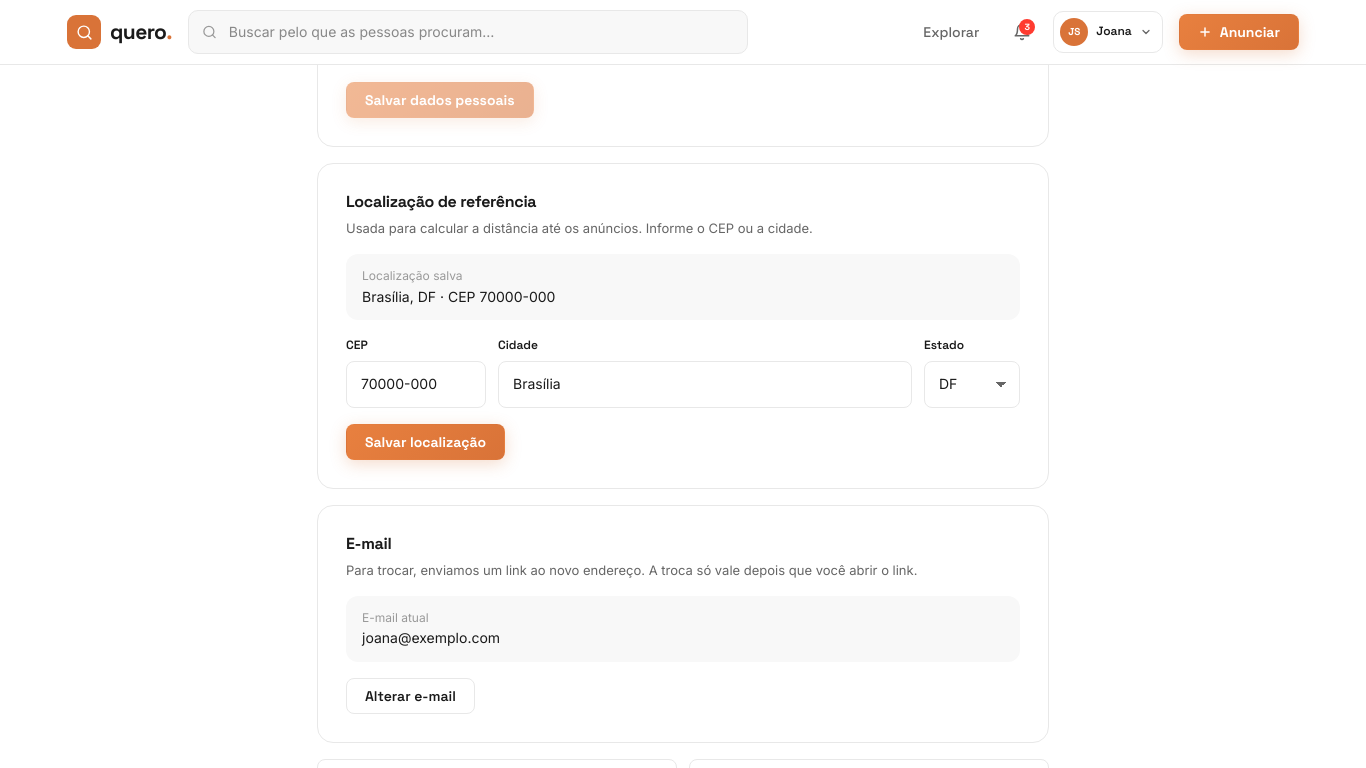
Test: perfil › exige CEP ou cidade antes de enviar
(page scrolled)
Clear the field labelled "CEP" at {"x": 416, "y": 384}, box [346, 361, 486, 408]
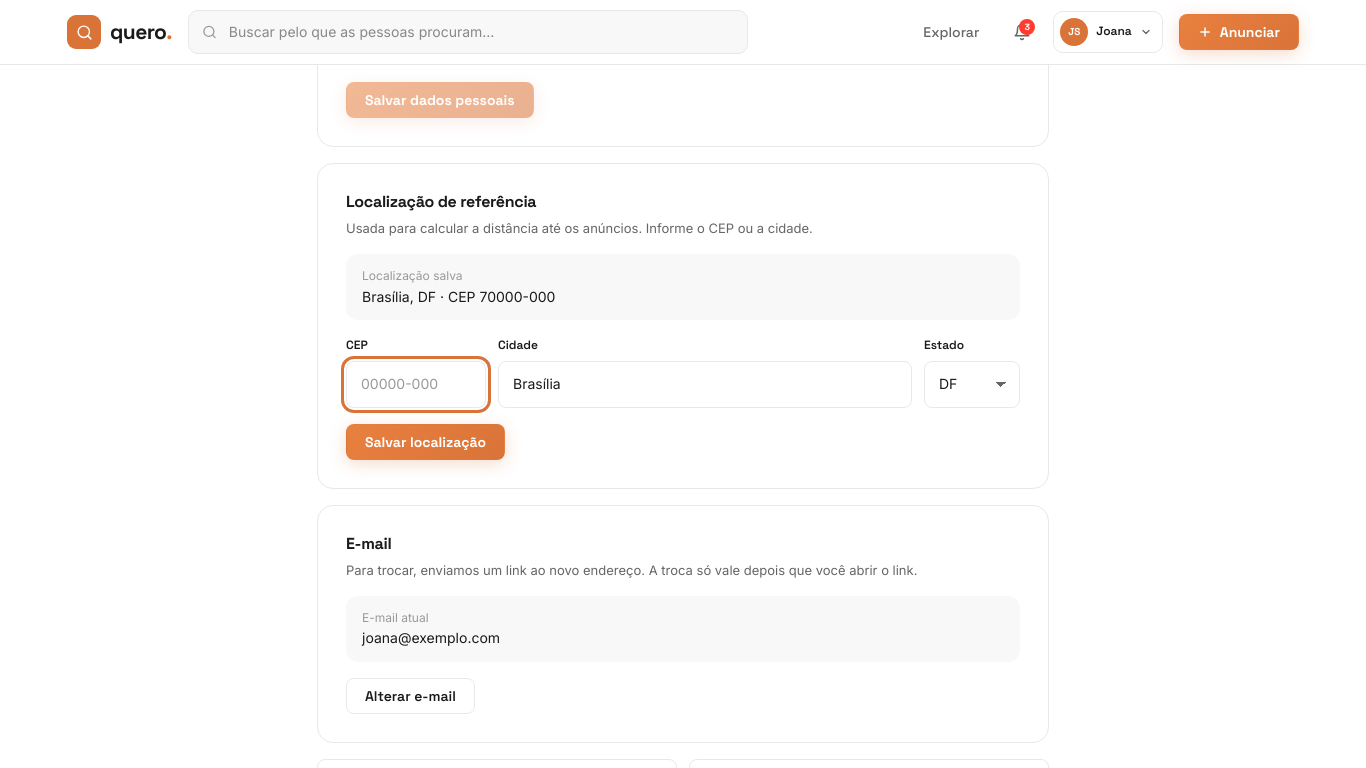
Clear the field labelled "Cidade" at {"x": 705, "y": 384}, box [498, 361, 912, 408]
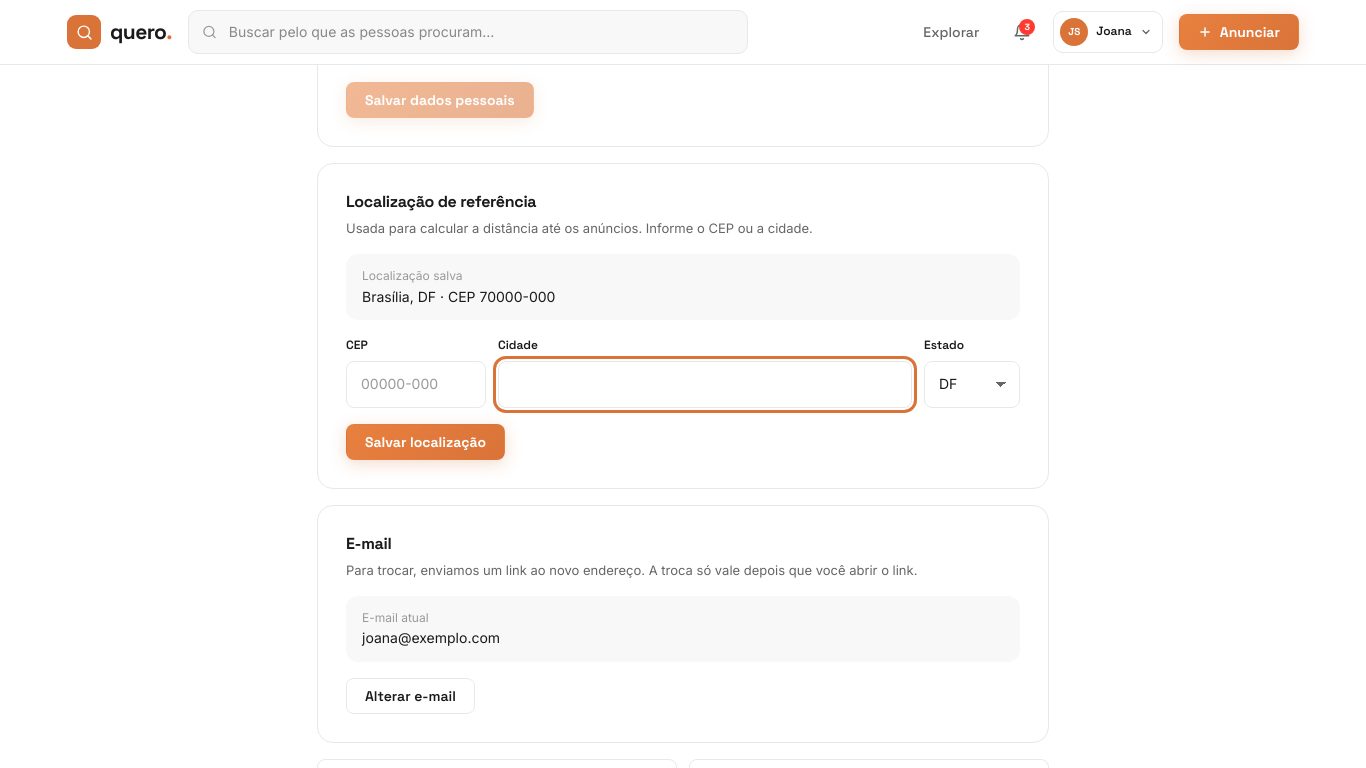
Click the button "Salvar localização" at {"x": 426, "y": 442}, box [346, 424, 505, 460]
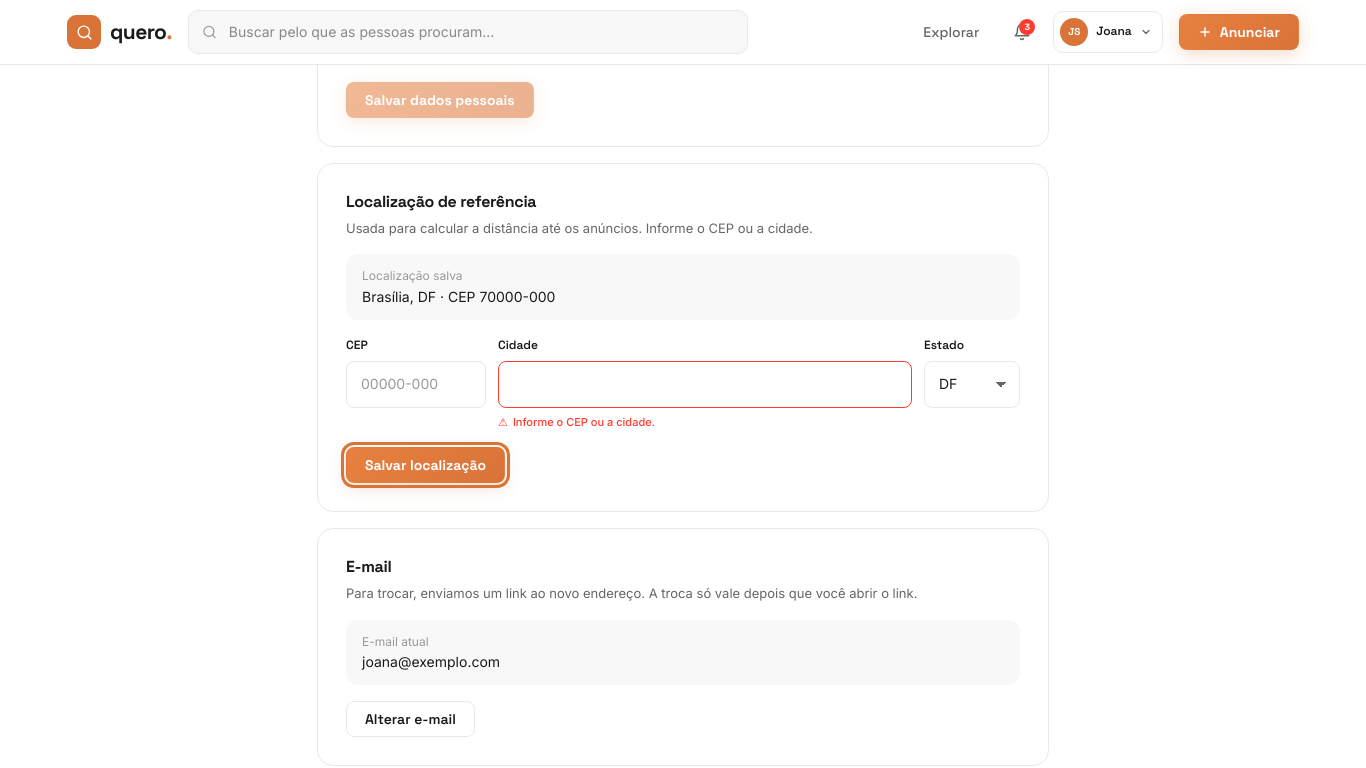
expect the text "Informe o CEP ou a cidade." is shown: met, box [513, 414, 655, 428]
